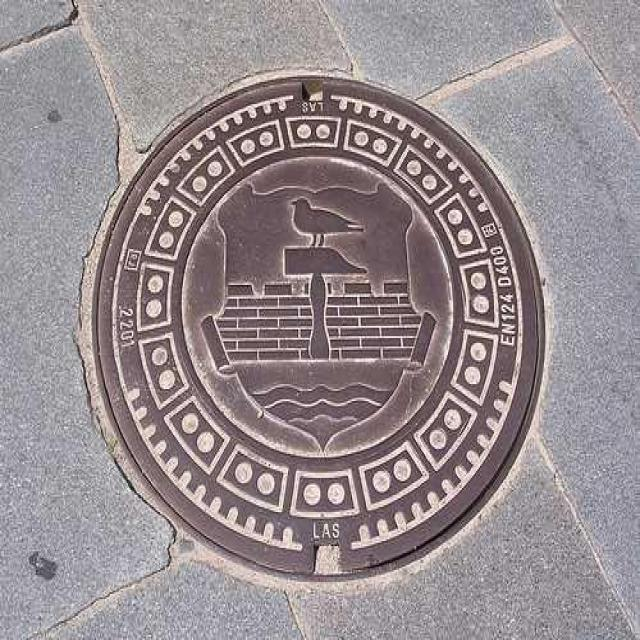manhole: (82, 73, 545, 579)
